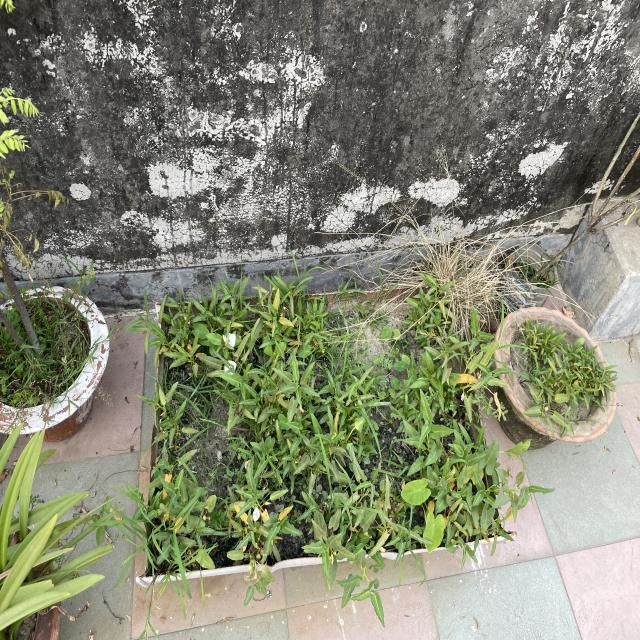Breeding Place: (155, 290, 488, 567), (2, 265, 110, 440), (495, 303, 612, 457)
